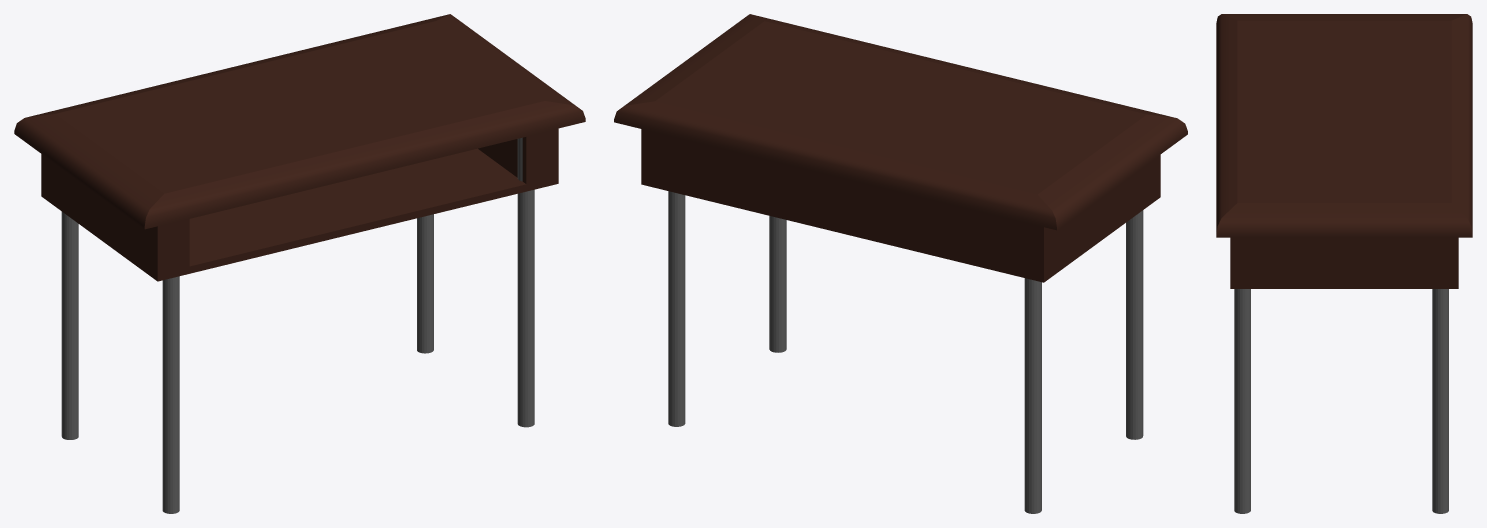
Rendered from StudentDesk.fbx.
3 renders of one model, left to right at view 1: azimuth 30°, elevation 25°; view 2: azimuth 150°, elevation 25°; view 3: azimuth 270°, elevation 25°, orthographic. The views are drawn at different scales.
Parts seen in each view (by area): view 1: pCube9; view 2: pCube9; view 3: pCube9.
Boxes of the visible parts, x1=… form: pCube9: x1=14, y1=14, x2=585, y2=513; pCube9: x1=614, y1=14, x2=1187, y2=513; pCube9: x1=1216, y1=14, x2=1472, y2=513.
Size of the model in its own units: 3.2 by 2.22 by 1.64.
